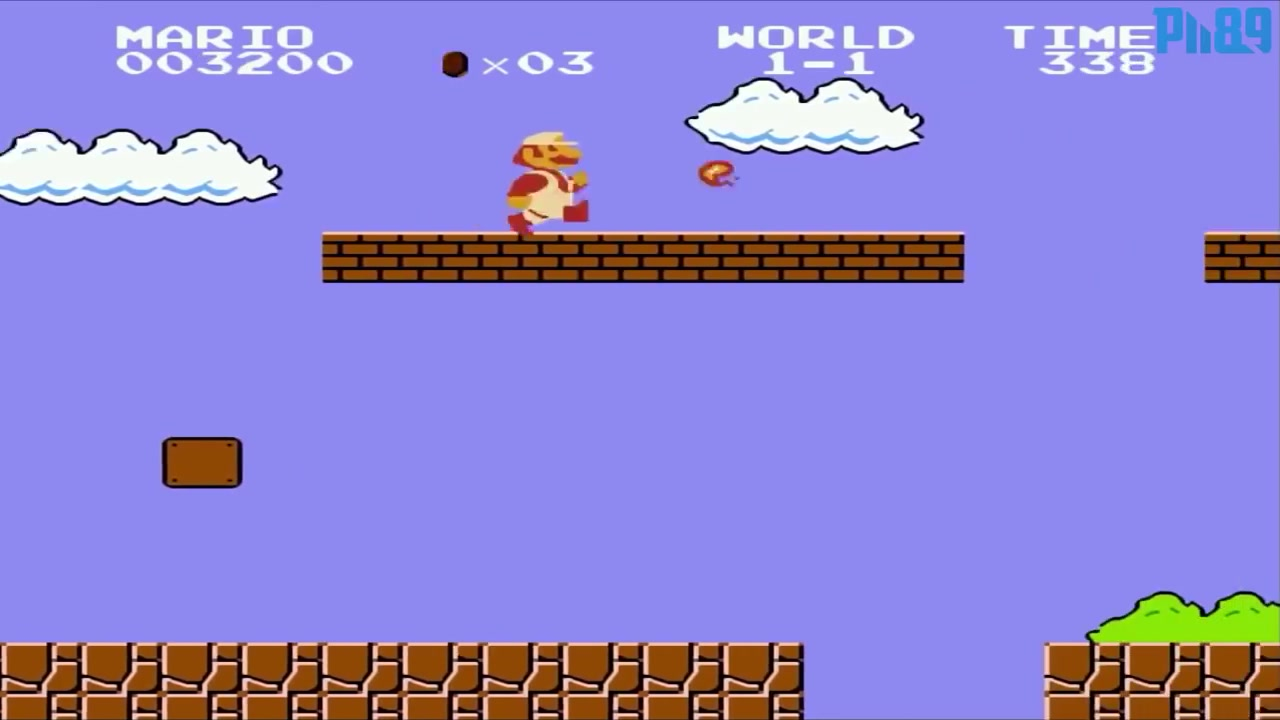mario: (501, 120, 590, 240)
